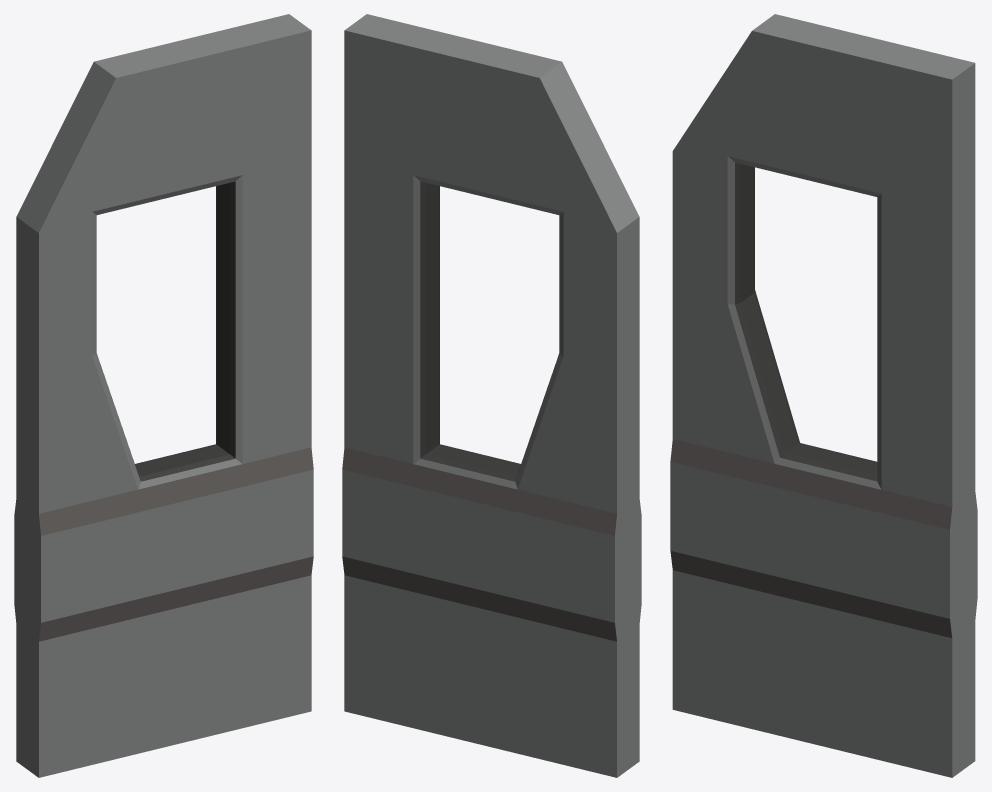
The model's file is db_door.glb.
3 renders of one model, left to right at view 1: azimuth 30°, elevation 25°; view 2: azimuth 150°, elevation 25°; view 3: azimuth 330°, elevation 25°, orthographic. The views are drawn at different scales.
Parts seen in each view (by area): view 1: Door; view 2: Door; view 3: Door.
Boxes of the visible parts, <box> form: Door: <box>14,14,313,777</box>; Door: <box>342,14,641,777</box>; Door: <box>670,14,977,777</box>.
Bounding box in the file's own units: 1.93 × 4.61 × 0.3294.
Materials: 1 (1 with a texture image).
